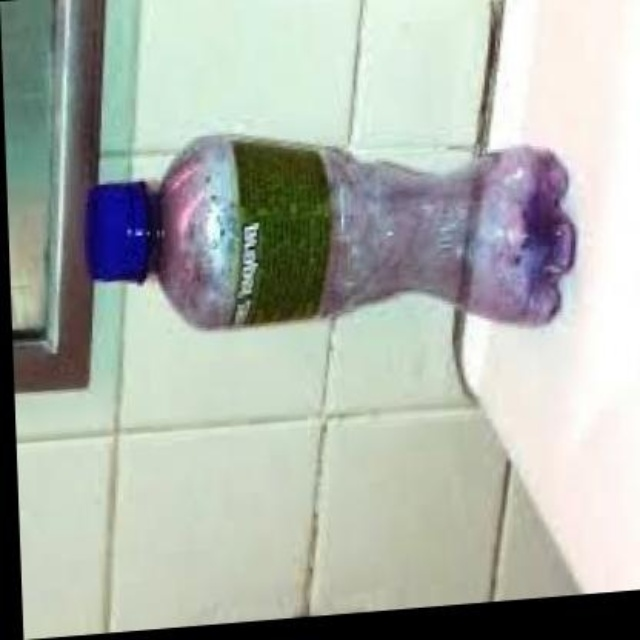trash: (88, 135, 574, 326)
